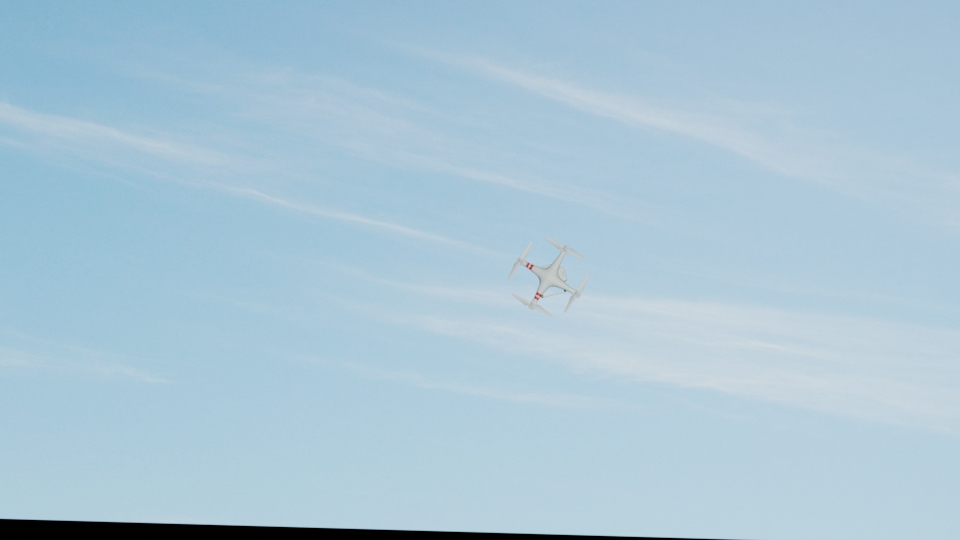drone: (509, 235, 588, 316)
